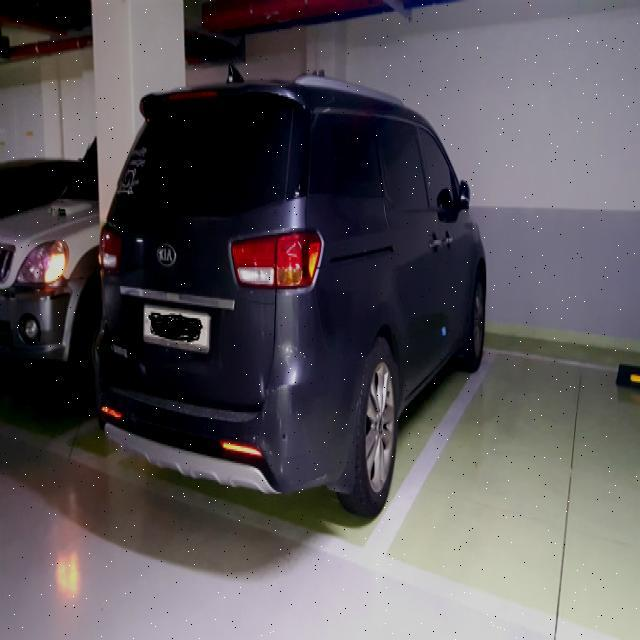empty: (467, 342, 640, 609)
occupied: (98, 91, 490, 525)
